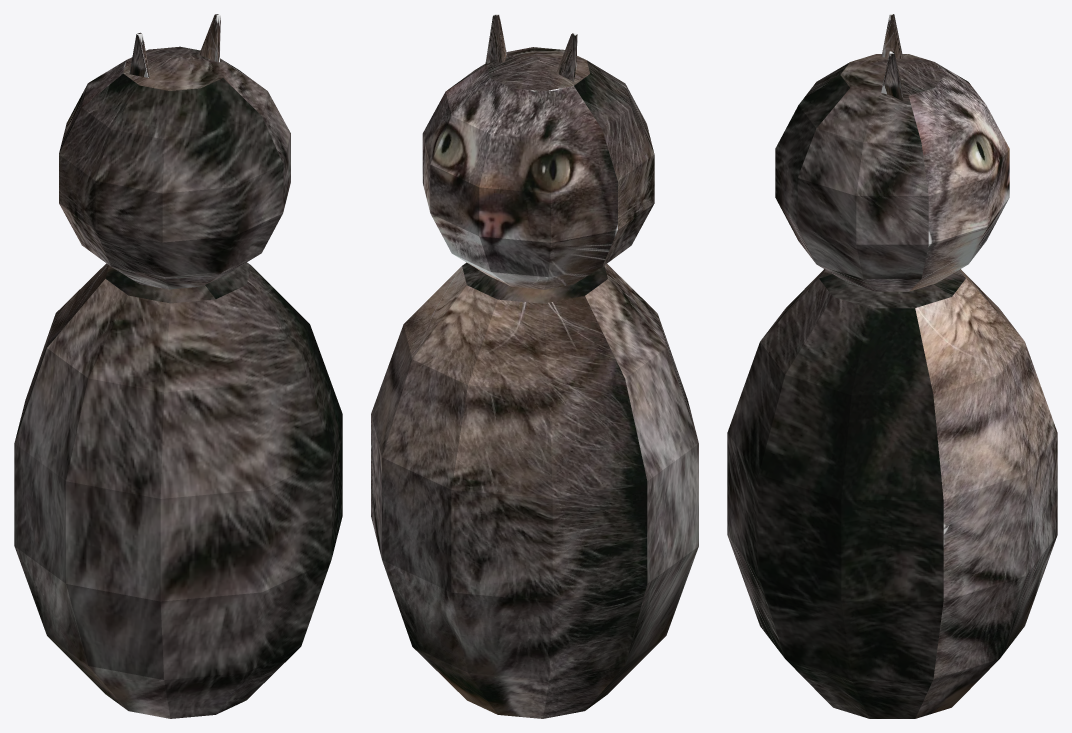
The model's file is cat.glb.
3 renders of one model, left to right at view 1: azimuth 30°, elevation 25°; view 2: azimuth 150°, elevation 25°; view 3: azimuth 270°, elevation 25°, orthographic.
Visible parts, largest first — view 1: Sphere, Sphere.001; view 2: Sphere, Sphere.001; view 3: Sphere, Sphere.001.
Boxes of the visible parts, x1,y1,x2,y2 form: Sphere: [14, 46, 342, 718]; Sphere.001: [129, 14, 220, 77]; Sphere: [371, 47, 698, 718]; Sphere.001: [485, 14, 577, 81]; Sphere: [727, 54, 1057, 718]; Sphere.001: [881, 14, 903, 101].
Size of what is drawn, in the model's own units: 1.25 by 2.98 by 1.31.
2 materials, 2 textured.
